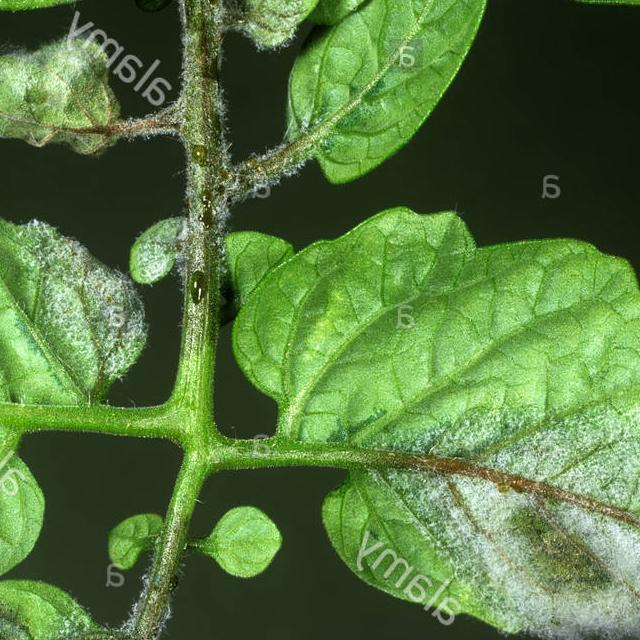Tomato leaf late blight: (194, 186, 640, 640), (0, 158, 161, 636), (0, 586, 306, 640)
